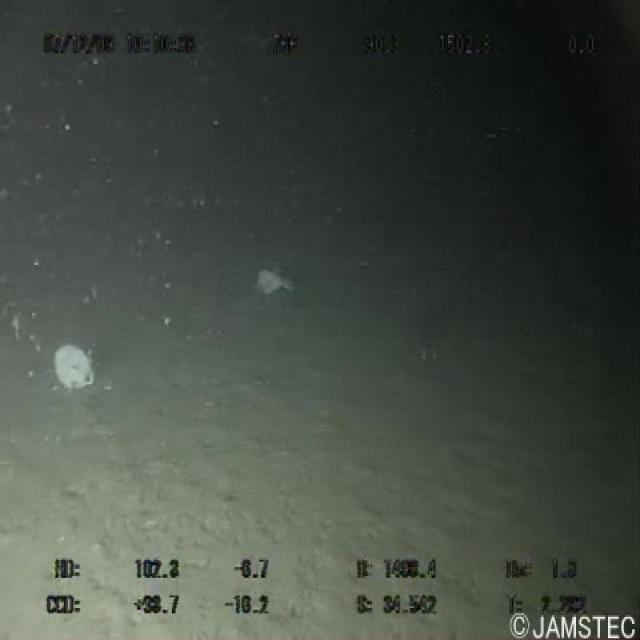plastic: (44, 338, 107, 400), (248, 256, 300, 300)
